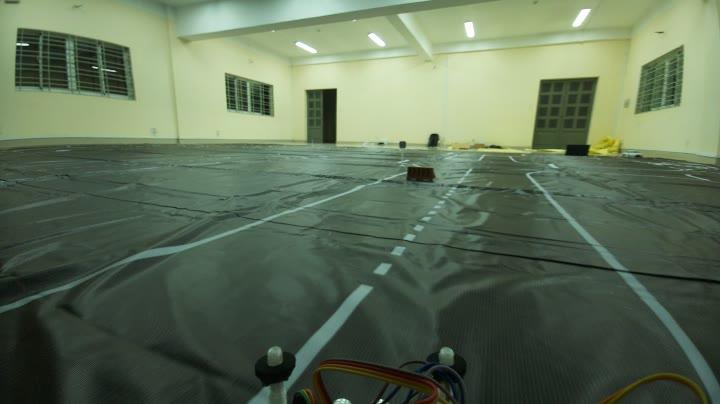roadblock: (401, 161, 440, 186)
